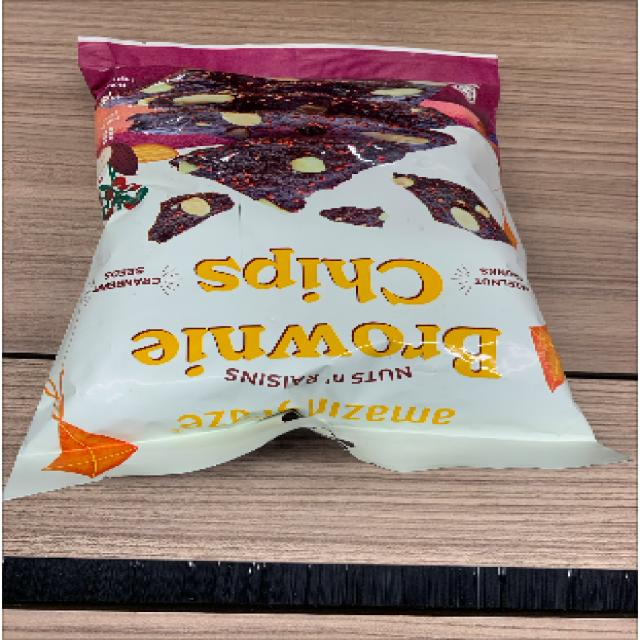object_name: (70, 45, 526, 448)
